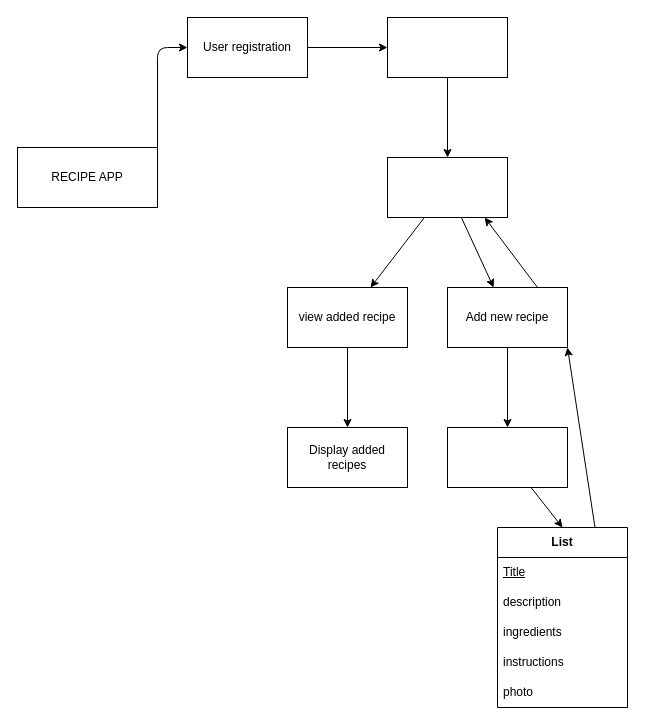
The diagram is 645 pixels wide and 725 high, and some of its shapes have lost their labels. Each missing label, with the centre of its shape:
"Add recipe form" belongs at pixel 507 457.
"Dashboard" belongs at pixel 447 187.
"Login" belongs at pixel 447 47.
